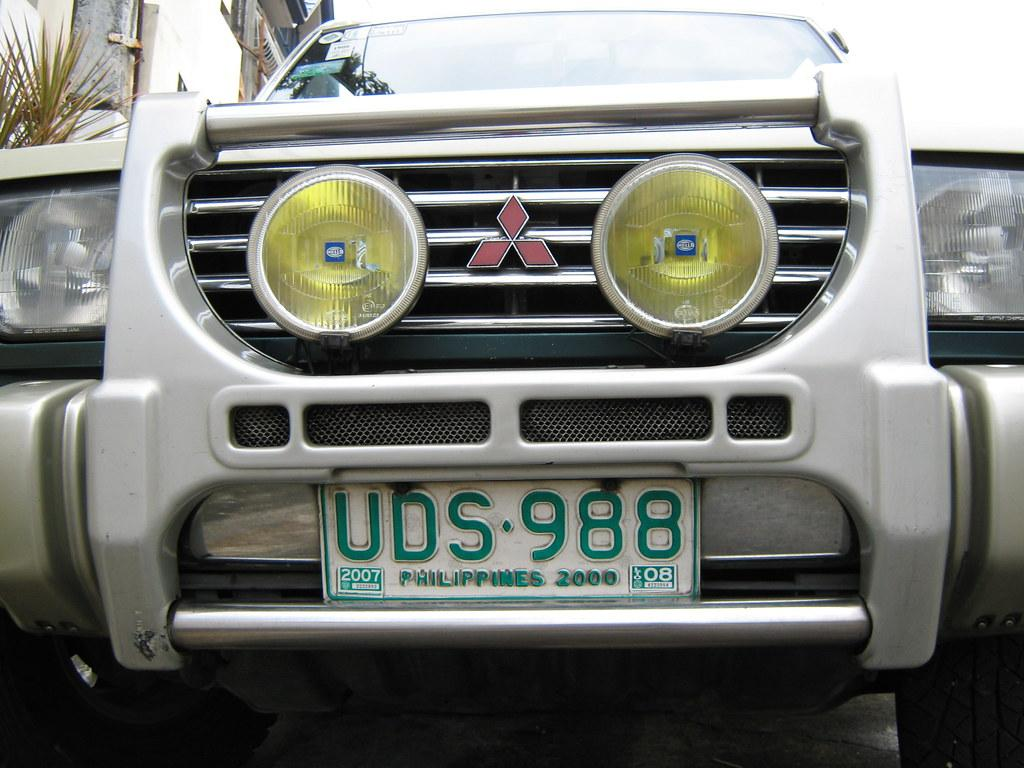plate: (321, 486, 698, 603)
